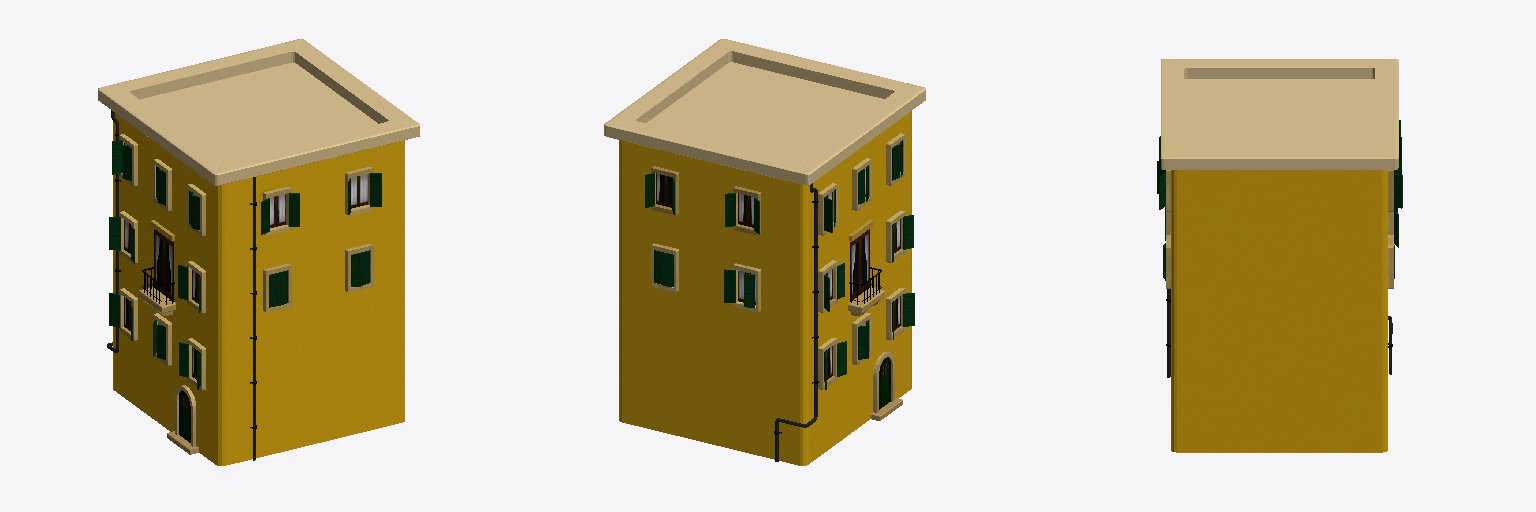
3 views of the same model, side by side, from view 1: azimuth 30°, elevation 25°; view 2: azimuth 150°, elevation 25°; view 3: azimuth 270°, elevation 25° (orthographic).
Parts seen in each view (by area): view 1: Meshes11; view 2: Meshes11; view 3: Meshes11.
Boxes of the visible parts, <box> form: Meshes11: <box>98,39,419,465</box>; Meshes11: <box>604,39,925,465</box>; Meshes11: <box>1157,59,1402,452</box>.
Bounding box in the file's own units: 28.45 × 38.29 × 28.54.
1 materials, 1 textured.